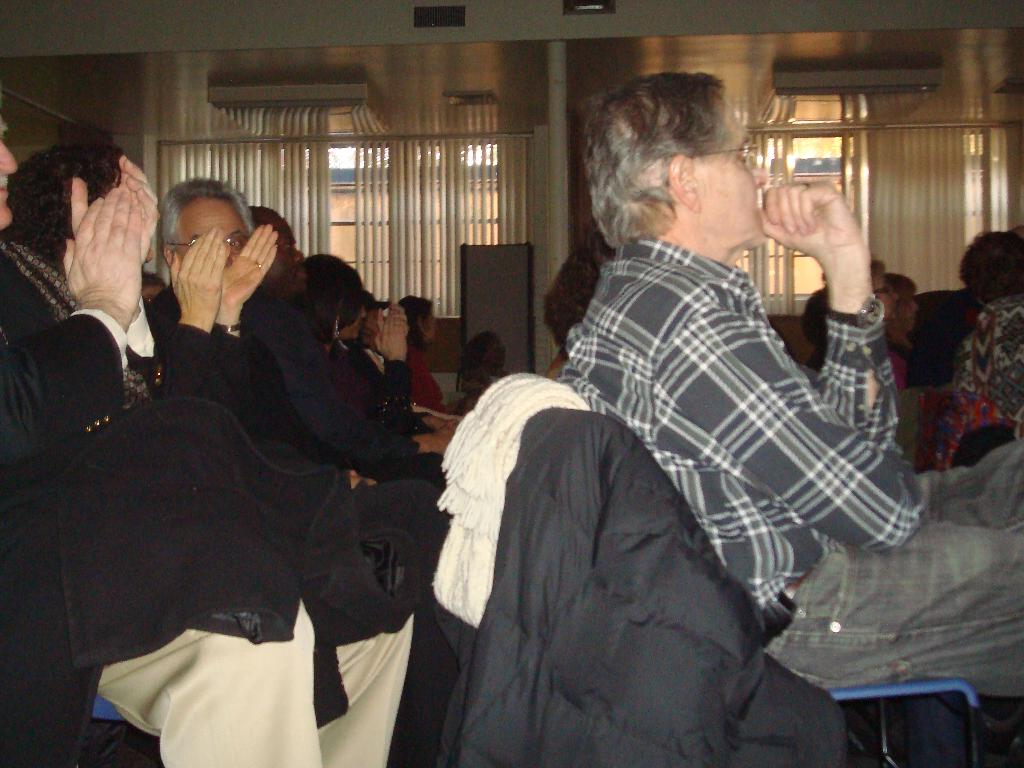Human_hand: (772, 183, 897, 330), (54, 186, 141, 319), (70, 154, 163, 270), (168, 223, 230, 328), (220, 221, 282, 307), (377, 319, 410, 362), (378, 302, 406, 331), (429, 426, 451, 456), (351, 471, 380, 488)
